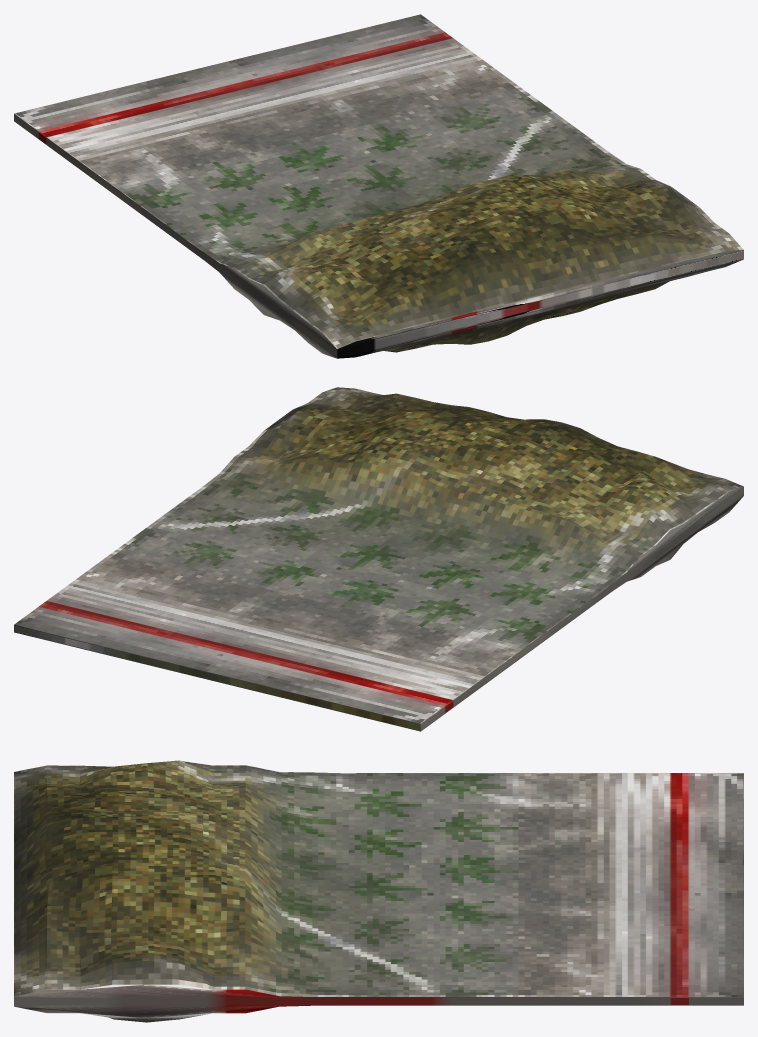
The model's file is weed.glb.
3 views of the same model, one above another, from view 1: azimuth 30°, elevation 25°; view 2: azimuth 150°, elevation 25°; view 3: azimuth 270°, elevation 25° (orthographic). The views are drawn at different scales.
Parts seen in each view (by area): view 1: Cube; view 2: Cube; view 3: Cube.
Boxes of the visible parts, box(x1,y1,x2,y2) form: Cube: box(14, 14, 743, 358); Cube: box(14, 387, 743, 731); Cube: box(14, 760, 743, 1022).
Bounding box in the file's own units: 2.3 × 0.5016 × 3.16.
1 material, 1 textured.
